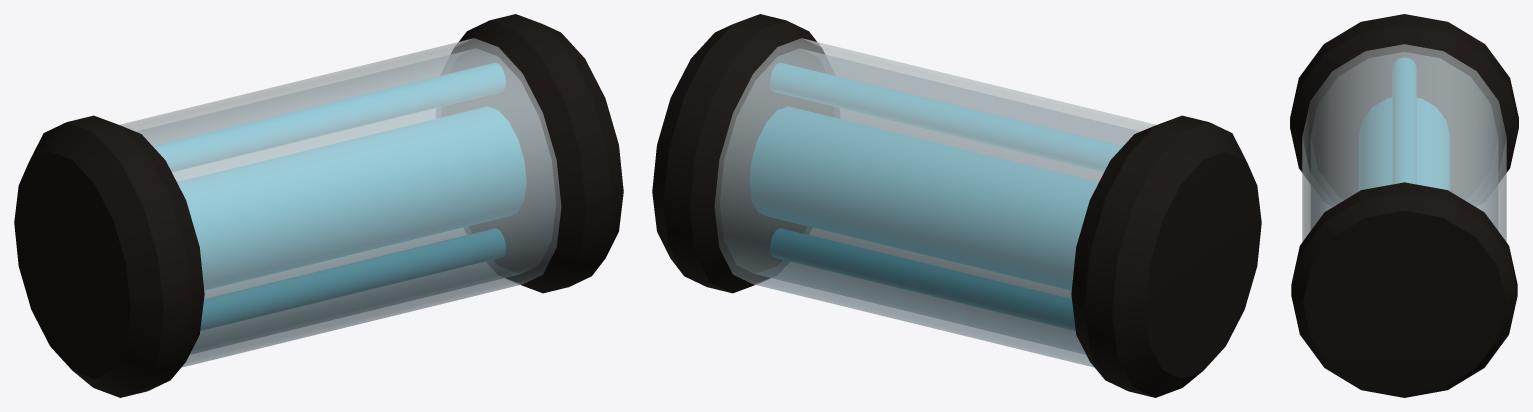
Rendered from AR9_MagazineExtended.fbx.
3 renders of one model, left to right at view 1: azimuth 30°, elevation 25°; view 2: azimuth 150°, elevation 25°; view 3: azimuth 270°, elevation 25°, orthographic. The views are drawn at different scales.
Visible parts, largest first — view 1: AR9_MagazineExtended; view 2: AR9_MagazineExtended; view 3: AR9_MagazineExtended.
Boxes of the visible parts, x1=… form: AR9_MagazineExtended: x1=14, y1=14, x2=623, y2=397; AR9_MagazineExtended: x1=652, y1=14, x2=1261, y2=397; AR9_MagazineExtended: x1=1290, y1=14, x2=1518, y2=397.
Bounding box in the file's own units: 13.07 × 6.53 × 6.53.
